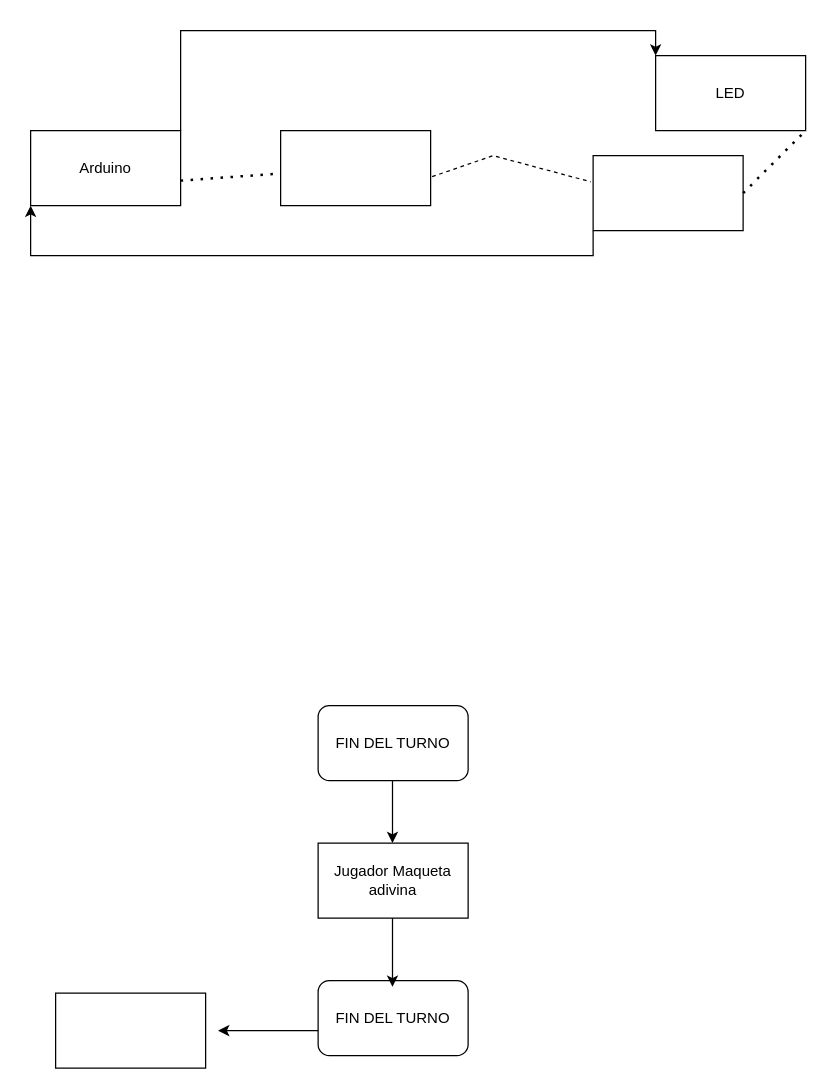
Image size: 830x1090. Some labels were removed from this diagram. The centre of each missing label's shape, as x and y in pixels:
"Se repite el proceso 2 veces" goes at (130,1030).
"Sensor Ultrasónico" goes at (667,192).
"Servomotor" goes at (355,167).
